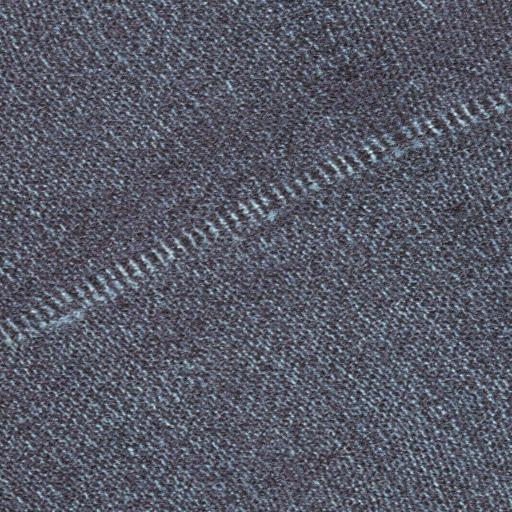slub: (1, 84, 512, 360)
